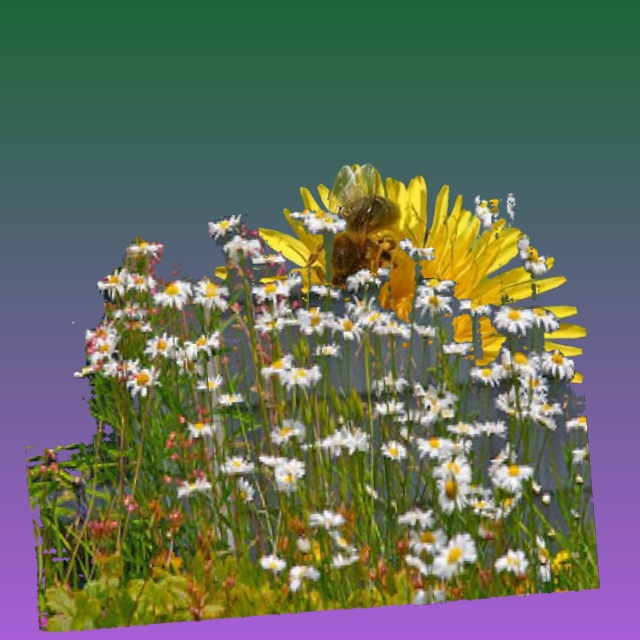daisy: (25, 192, 599, 631)
dandelion: (208, 164, 586, 483)
